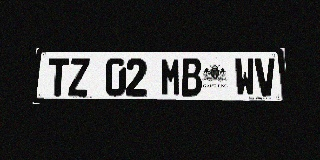0: (105, 58, 126, 96)
2: (126, 58, 146, 96)
B: (181, 58, 202, 96)
M: (161, 58, 181, 96)
T: (47, 58, 69, 96)
V: (255, 58, 277, 96)
W: (234, 58, 256, 96)
Z: (68, 58, 90, 96)
